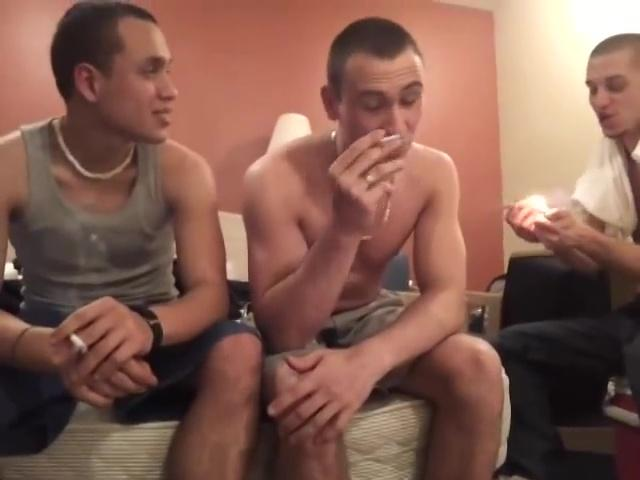cigarette: (66, 331, 91, 357), (377, 132, 406, 147)
